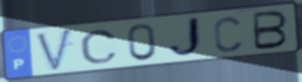0: (126, 23, 158, 62)
B: (251, 9, 290, 52)
C: (78, 29, 120, 65), (212, 15, 244, 54)
J: (166, 15, 205, 60)
V: (34, 27, 75, 74)
